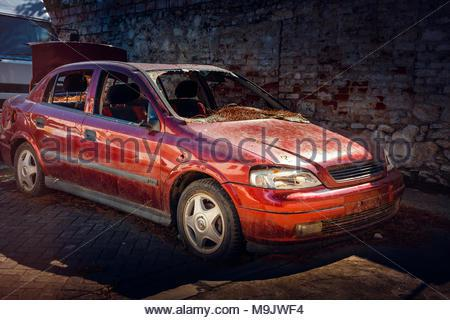Front-Windscreen-Damage: (125, 57, 302, 126)
